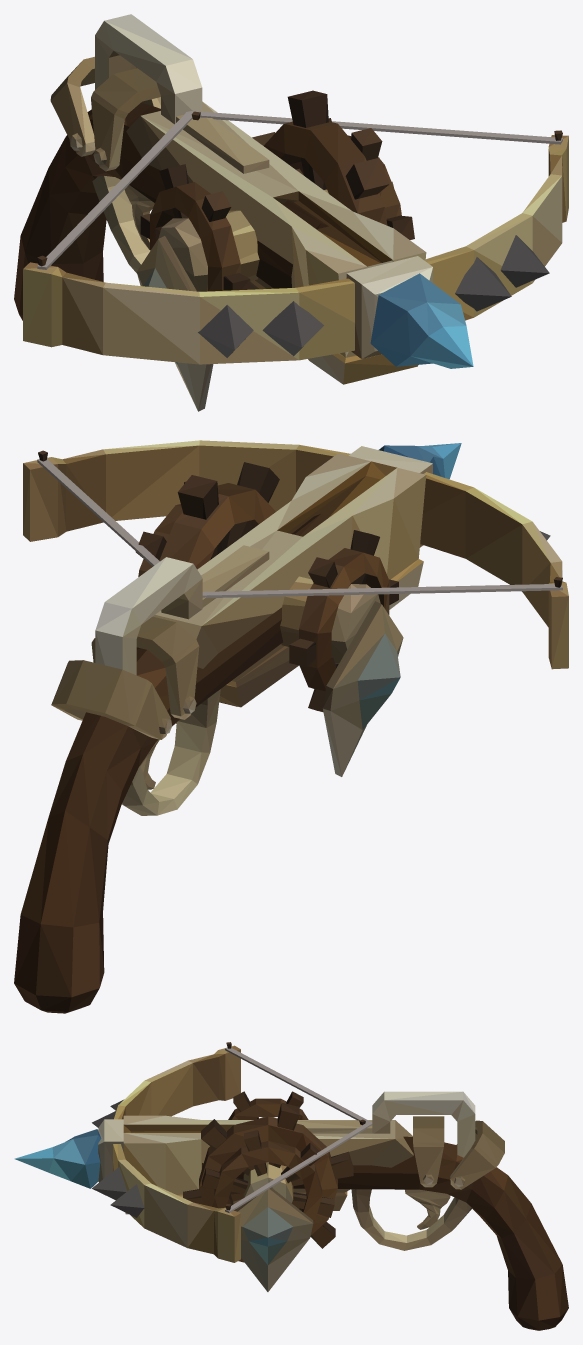
File: weapon_crossbow_gold_3.fbx
The picture shows the model from 3 angles, top to bottom: view 1: azimuth 30°, elevation 25°; view 2: azimuth 150°, elevation 25°; view 3: azimuth 270°, elevation 25°; orthographic projection. The views are drawn at different scales.
Parts seen in each view (by area): view 1: weapon_crossbow_gold_3; view 2: weapon_crossbow_gold_3; view 3: weapon_crossbow_gold_3.
Boxes of the visible parts, left/top/right/bottom form: weapon_crossbow_gold_3: left=14, top=14, right=568, bottom=411; weapon_crossbow_gold_3: left=14, top=440, right=568, bottom=1013; weapon_crossbow_gold_3: left=14, top=1042, right=568, bottom=1330.
Size of the model in its own units: 0.8673 by 0.5559 by 1.19.
